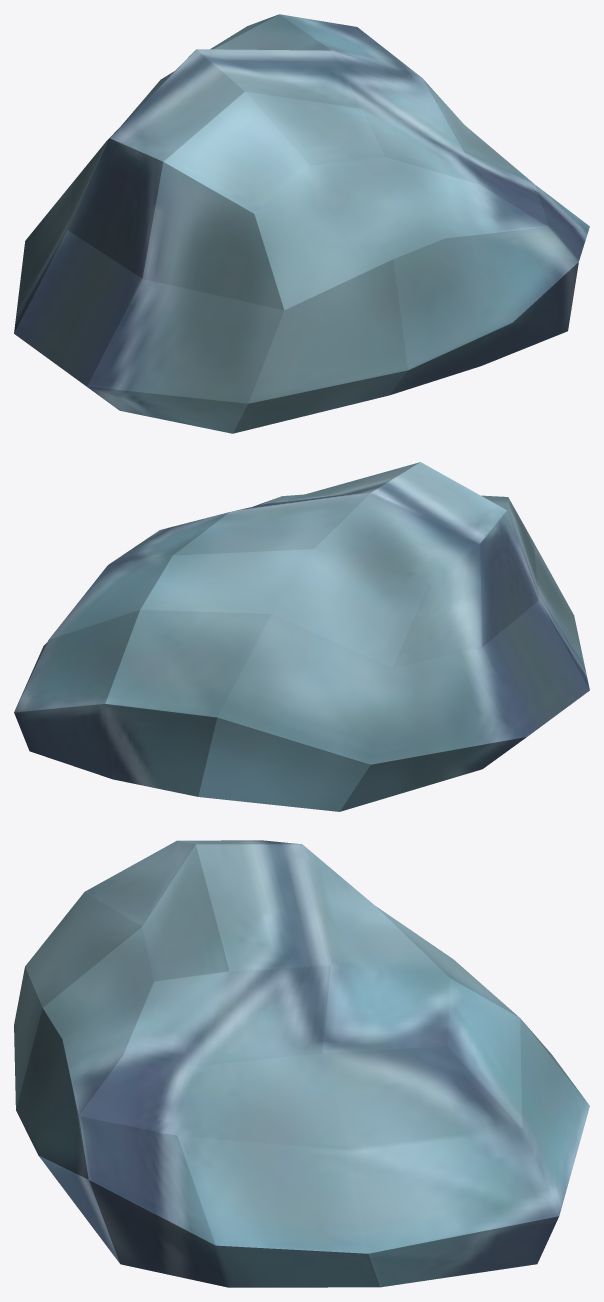
Rendered from pedra1.fbx.
3 renders of one model, top to bottom at view 1: azimuth 30°, elevation 25°; view 2: azimuth 150°, elevation 25°; view 3: azimuth 270°, elevation 25°, orthographic. The views are drawn at different scales.
Parts seen in each view (by area): view 1: pedra1; view 2: pedra1; view 3: pedra1.
Part boxes in pixels (x1,y1,x2,y2): pedra1: (14, 14, 589, 433); pedra1: (14, 462, 589, 811); pedra1: (14, 840, 589, 1287).
Bounding box in the file's own units: 416 × 212 × 390.
